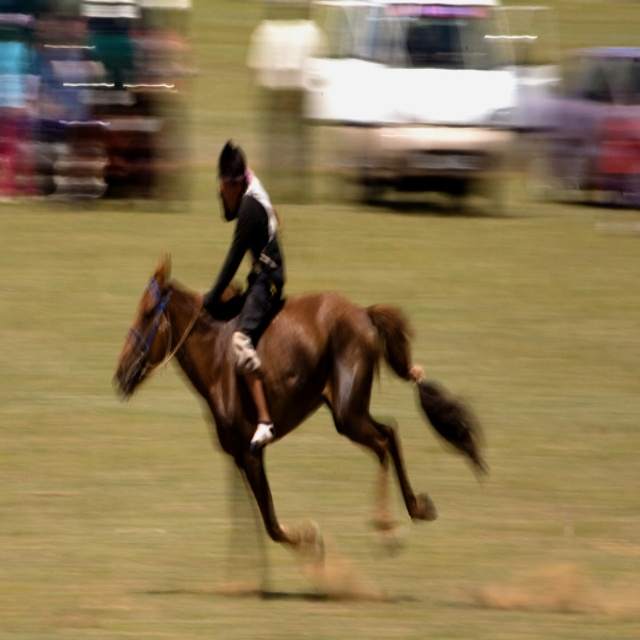Horse: (113, 251, 490, 565)
